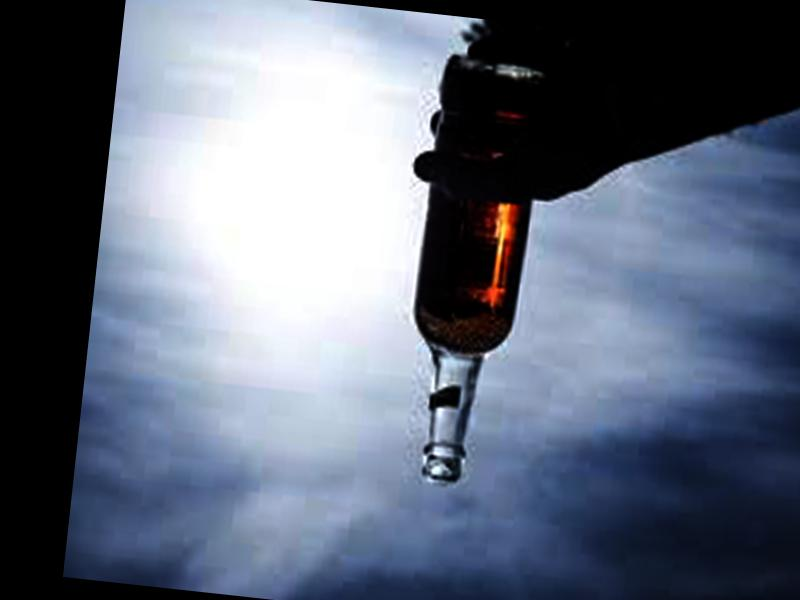Beer: (401, 60, 545, 488)
